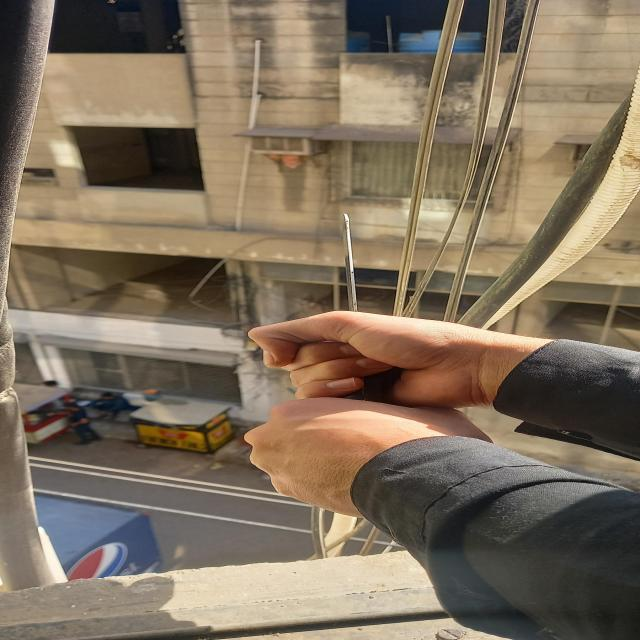faca: (340, 214, 360, 308)
